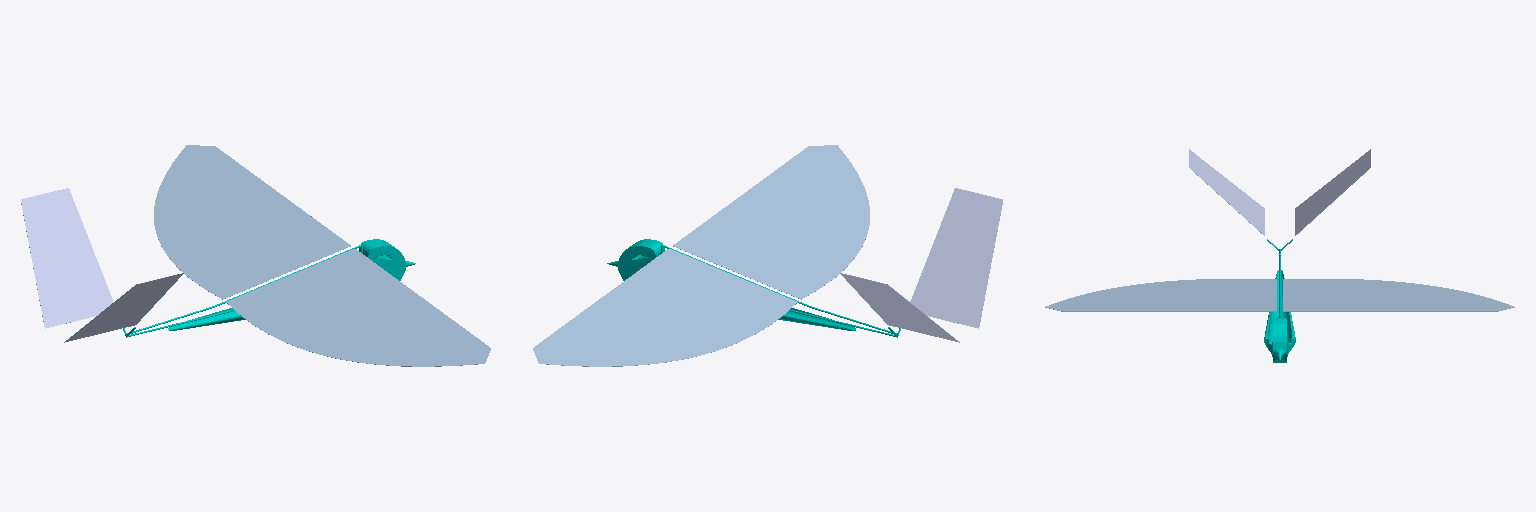
URDF robot description (Assem2 - for URDF4):
<?xml version="1.0" encoding="utf-8"?>
<!-- This URDF was automatically created by SolidWorks to URDF Exporter! Originally created by [author] ([email redacted]) 
     Commit Version: 1.6.0-4-g7f85cfe  Build Version: 1.6.7995.38578
     For more information, please see http://wiki.ros.org/sw_urdf_exporter -->
<robot
  name="Assem2 - for URDF4">
  <link
    name="base_link">
    <inertial>
      <origin
        xyz="-0.0625249105466139 7.65099290034321E-08 -0.0790659915577752"
        rpy="0 0 0" />
      <mass
        value="0.677453260012281" />
      <inertia
        ixx="0.000847340363516568"
        ixy="-3.31422157163912E-09"
        ixz="-0.00101773246736942"
        iyy="0.0102378910372776"
        iyz="3.21129712024959E-10"
        izz="0.0097252990520348" />
    </inertial>
    <visual>
      <origin
        xyz="0 0 0"
        rpy="0 0 0" />
      <geometry>
        <mesh
          filename="package://Assem2 - for URDF4/meshes/base_link.STL" />
      </geometry>
      <material
        name="">
        <color
          rgba="0 0.811764705882353 0.788235294117647 1" />
      </material>
    </visual>
    <collision>
      <origin
        xyz="0 0 0"
        rpy="0 0 0" />
      <geometry>
        <mesh
          filename="package://Assem2 - for URDF4/meshes/base_link.STL" />
      </geometry>
    </collision>
  </link>
  <link
    name="Right_wing">
    <inertial>
      <origin
        xyz="0.064872 -0.26659 0.00225"
        rpy="0 0 0" />
      <mass
        value="0.099558" />
      <inertia
        ixx="0.00015"
        ixy="0.0001"
        ixz="0.0001"
        iyy="0.0002"
        iyz="0.0001"
        izz="0" />
    </inertial>
    <visual>
      <origin
        xyz="0 0 0"
        rpy="0 0 0" />
      <geometry>
        <mesh
          filename="package://Assem2 - for URDF4/meshes/Right_wing.STL" />
      </geometry>
      <material
        name="">
        <color
          rgba="0.7 0.8 0.9 1" />
      </material>
    </visual>
    <collision>
      <origin
        xyz="0 0 0"
        rpy="0 0 0" />
      <geometry>
        <mesh
          filename="package://Assem2 - for URDF4/meshes/Right_wing.STL" />
      </geometry>
    </collision>
  </link>
  <joint
    name="Right_wing"
    type="revolute">
    <origin
      xyz="-0.25277 -0.005 -0.033847"
      rpy="0 -0.16232 0" />
    <parent
      link="base_link" />
    <child
      link="Right_wing" />
    <axis
      xyz="1 0 0" />
    <limit
      lower="-0.78"
      upper="0.78"
      effort="0.3"
      velocity="0" />
  </joint>
  <link
    name="Left_wing">
    <inertial>
      <origin
        xyz="0.064872 0.26659 0.00225"
        rpy="0 0 0" />
      <mass
        value="0.099558" />
      <inertia
        ixx="0.00015"
        ixy="0.0001"
        ixz="0.0001"
        iyy="0.0002"
        iyz="0.0001"
        izz="0" />
    </inertial>
    <visual>
      <origin
        xyz="0 0 0"
        rpy="0 0 0" />
      <geometry>
        <mesh
          filename="package://Assem2 - for URDF4/meshes/Left_wing.STL" />
      </geometry>
      <material
        name="">
        <color
          rgba="0.7 0.8 0.9 1" />
      </material>
    </visual>
    <collision>
      <origin
        xyz="0 0 0"
        rpy="0 0 0" />
      <geometry>
        <mesh
          filename="package://Assem2 - for URDF4/meshes/Left_wing.STL" />
      </geometry>
    </collision>
  </link>
  <joint
    name="Left_wing"
    type="revolute">
    <origin
      xyz="-0.25277 0.005 -0.033847"
      rpy="0 -0.16232 0" />
    <parent
      link="base_link" />
    <child
      link="Left_wing" />
    <axis
      xyz="1 0 0" />
    <limit
      lower="0.78"
      upper="-0.78"
      effort="0.3"
      velocity="0" />
  </joint>
  <link
    name="Right_tail">
    <inertial>
      <origin
        xyz="0.076 -0.00225 0.14767"
        rpy="0 0 0" />
      <mass
        value="0.022125" />
      <inertia
        ixx="0.00015"
        ixy="0.0001"
        ixz="0.0001"
        iyy="0.0002"
        iyz="0.001"
        izz="0" />
    </inertial>
    <visual>
      <origin
        xyz="0 0 0"
        rpy="0 0 0" />
      <geometry>
        <mesh
          filename="package://Assem2 - for URDF4/meshes/Right_tail.STL" />
      </geometry>
      <material
        name="">
        <color
          rgba="0.79216 0.81961 0.93333 1" />
      </material>
    </visual>
    <collision>
      <origin
        xyz="0 0 0"
        rpy="0 0 0" />
      <geometry>
        <mesh
          filename="package://Assem2 - for URDF4/meshes/Right_tail.STL" />
      </geometry>
    </collision>
  </link>
  <joint
    name="Right_tail"
    type="revolute">
    <origin
      xyz="-0.60951 -0.035355 -0.043303"
      rpy="-0.7854 0 -3.1416" />
    <parent
      link="base_link" />
    <child
      link="Right_tail" />
    <axis
      xyz="0 0 1" />
    <limit
      lower="-0.78"
      upper="0.78"
      effort="0.003"
      velocity="0" />
  </joint>
  <link
    name="Left_tail">
    <inertial>
      <origin
        xyz="0.076 0.00225 0.14767"
        rpy="0 0 0" />
      <mass
        value="0.022125" />
      <inertia
        ixx="0.00015"
        ixy="0.0001"
        ixz="0.0001"
        iyy="0.0002"
        iyz="0.0001"
        izz="0" />
    </inertial>
    <visual>
      <origin
        xyz="0 0 0"
        rpy="0 0 0" />
      <geometry>
        <mesh
          filename="package://Assem2 - for URDF4/meshes/Left_tail.STL" />
      </geometry>
      <material
        name="">
        <color
          rgba="0.79216 0.81961 0.93333 1" />
      </material>
    </visual>
    <collision>
      <origin
        xyz="0 0 0"
        rpy="0 0 0" />
      <geometry>
        <mesh
          filename="package://Assem2 - for URDF4/meshes/Left_tail.STL" />
      </geometry>
    </collision>
  </link>
  <joint
    name="Left_tail"
    type="revolute">
    <origin
      xyz="-0.60951 0.035355 -0.043303"
      rpy="0.7854 0 -3.1416" />
    <parent
      link="base_link" />
    <child
      link="Left_tail" />
    <axis
      xyz="0 0 1" />
    <limit
      lower="0.78"
      upper="-0.78"
      effort="0.003"
      velocity="0" />
  </joint>
</robot>

--- Facts derived from the render (not from the file) ---
3 views of the same robot in one strip: view 1: azimuth 30°, elevation 25°; view 2: azimuth 150°, elevation 25°; view 3: azimuth 270°, elevation 25° (orthographic).
Model Assem2 - for URDF4 with 5 links and 4 joints (4 revolute), rooted at base_link, posed every joint at zero.
Links seen in each view (by area): view 1: Right_wing, Left_wing, Left_tail, Right_tail, base_link; view 2: Left_wing, Right_wing, Right_tail, Left_tail, base_link; view 3: Right_wing, Left_wing, Right_tail, Left_tail, base_link.
Link boxes in pixels (<box>): Right_wing: <box>226,249,490,366</box>; Left_wing: <box>154,145,350,299</box>; Left_tail: <box>21,188,113,328</box>; Right_tail: <box>64,273,183,342</box>; base_link: <box>123,239,415,337</box>; Left_wing: <box>533,249,797,366</box>; Right_wing: <box>673,145,869,299</box>; Right_tail: <box>910,188,1002,328</box>; Left_tail: <box>840,273,959,342</box>; base_link: <box>607,239,900,337</box>; Right_wing: <box>1045,279,1276,311</box>; Left_wing: <box>1283,279,1514,311</box>; Right_tail: <box>1189,149,1264,235</box>; Left_tail: <box>1295,149,1370,235</box>; base_link: <box>1264,239,1295,362</box>.
Bounding box of the posed robot: 0.9027 × 1.28 × 0.3019 m (x, y, z).
Meshes: 5 distinct files referenced, 5 mesh visuals loaded (5 binary STL).